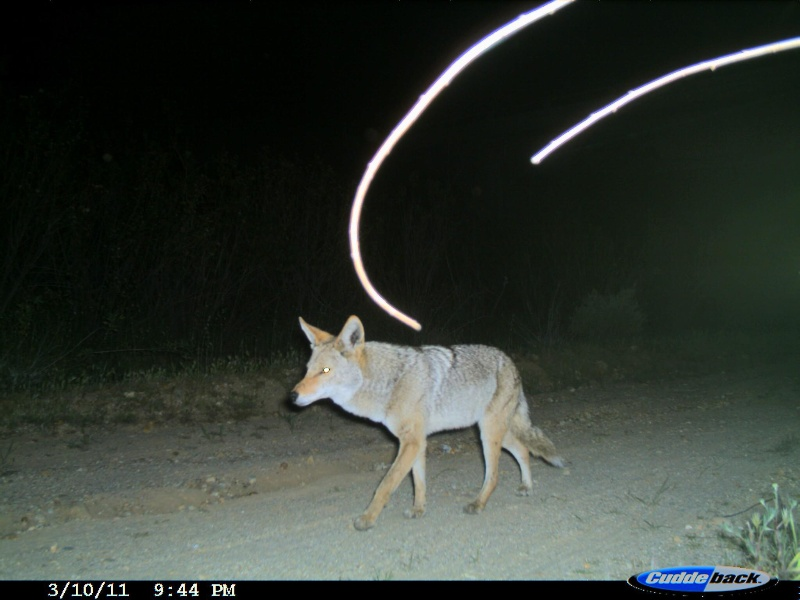coyote: (285, 312, 568, 530)
